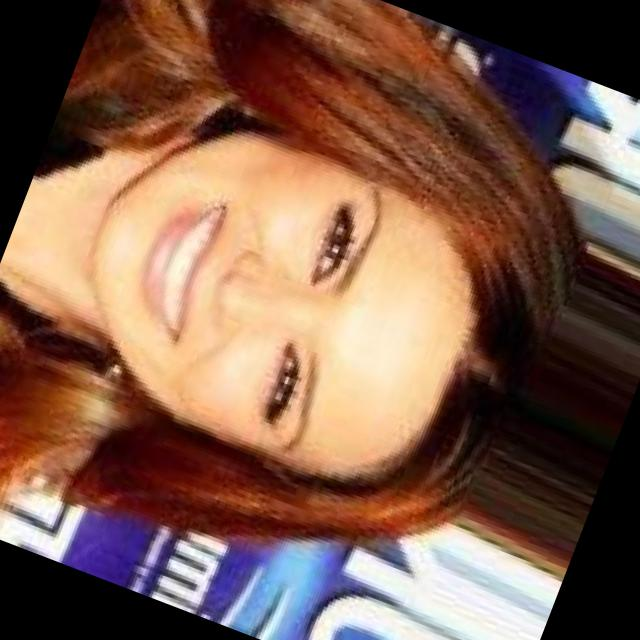bareface: (46, 36, 587, 570)
